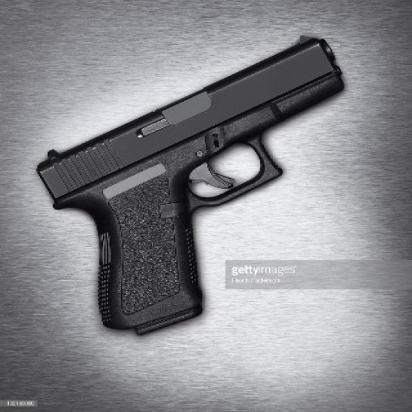Gun: (32, 33, 345, 333)
